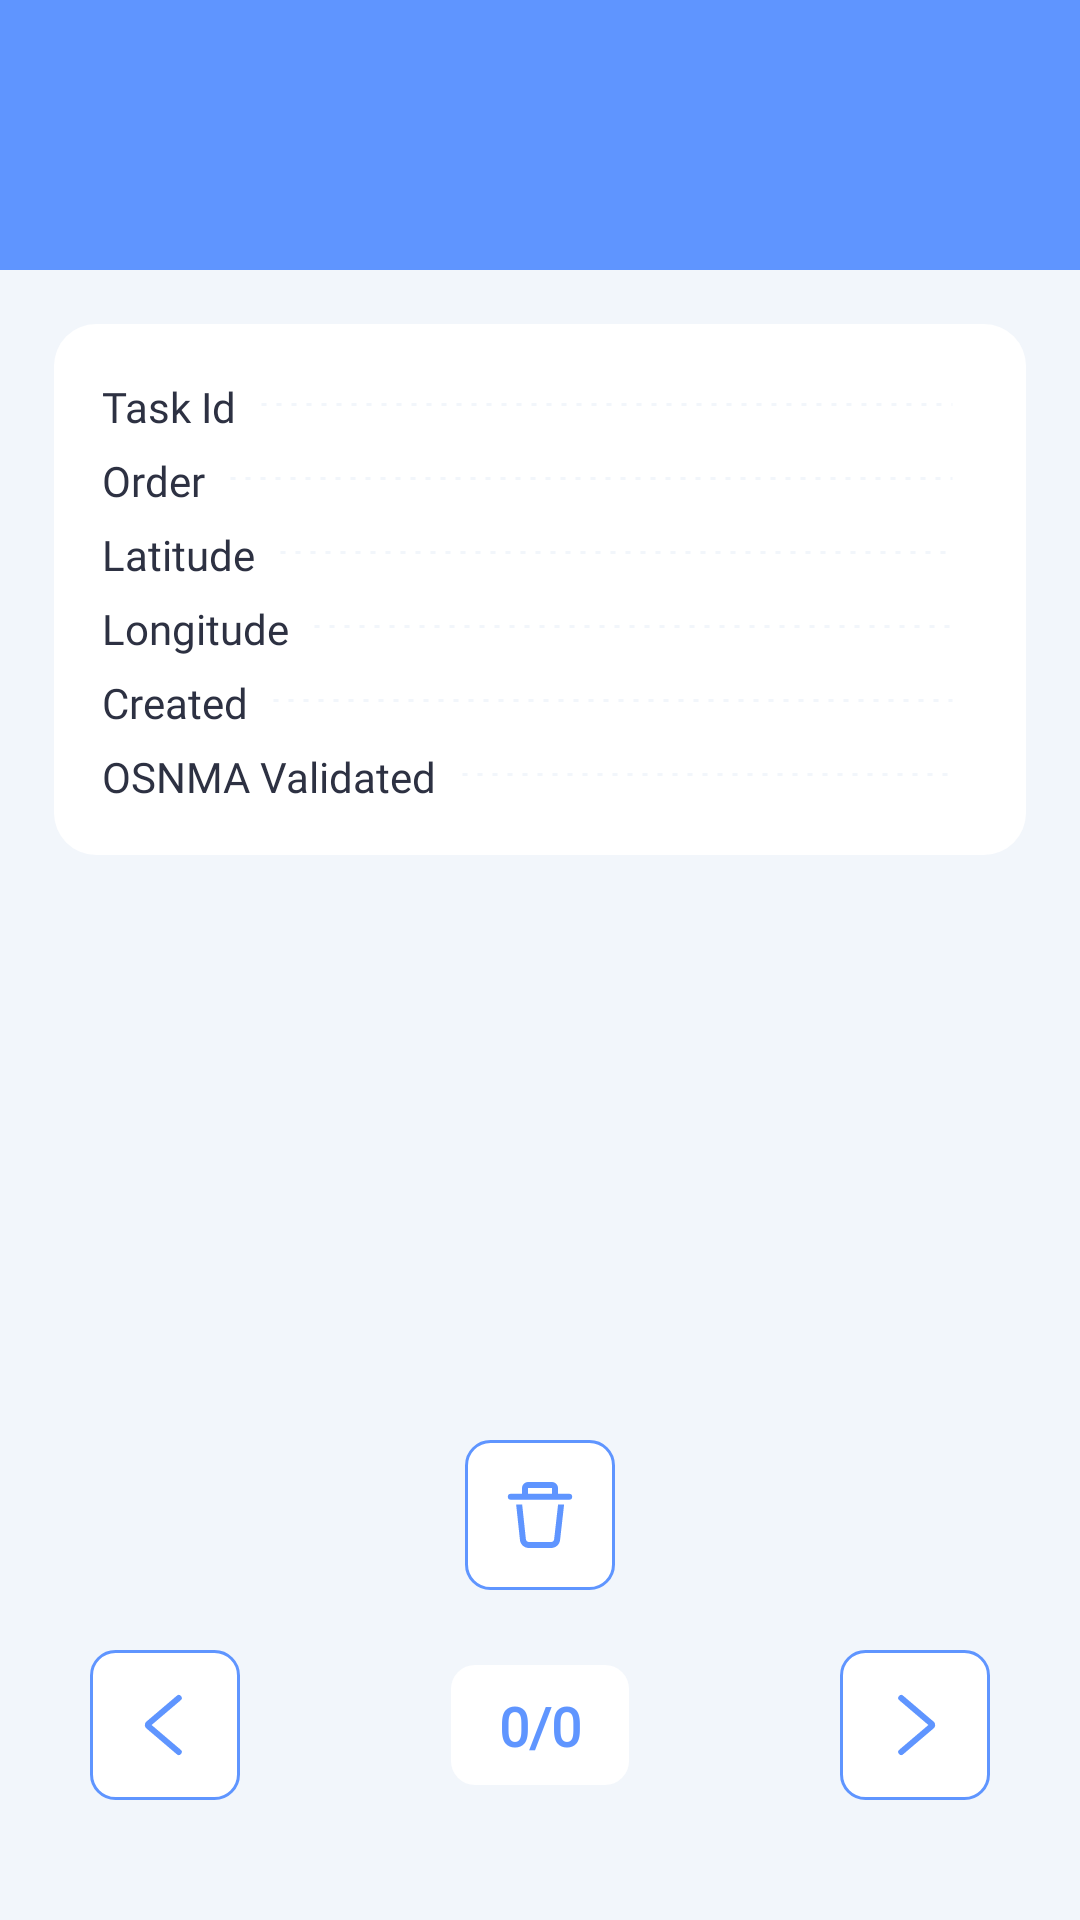

Icons on this 1080px×1920px Android screen, each with its box as (x1, y1, x2, y2):
all back: (90, 1650, 240, 1800)
all next: (840, 1650, 990, 1800)
all trash: (465, 1440, 615, 1590)
